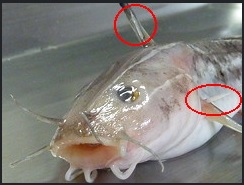gonzui: (52, 15, 244, 175)
